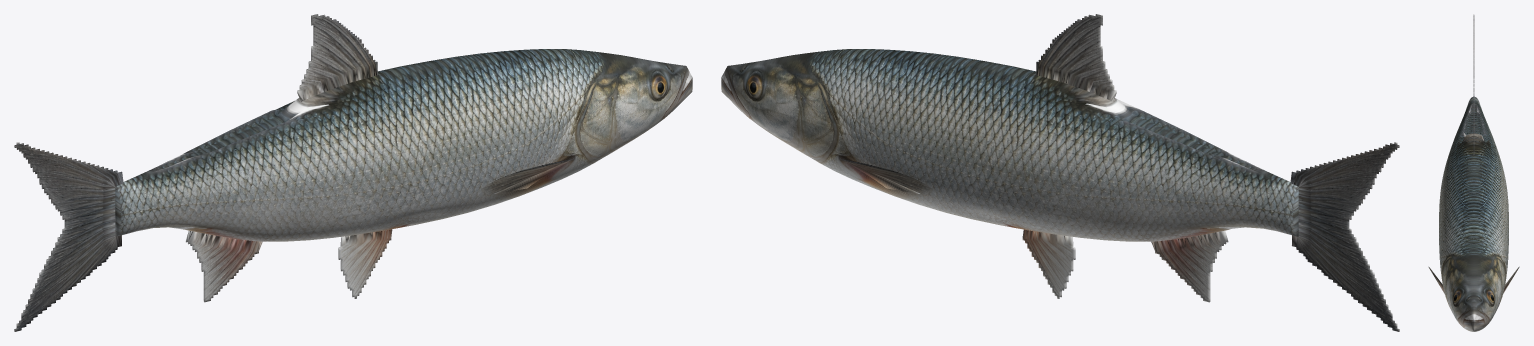
File: asp.glb
3 views of the same model, side by side, from view 1: azimuth 30°, elevation 25°; view 2: azimuth 150°, elevation 25°; view 3: azimuth 270°, elevation 25° (orthographic). The views are drawn at different scales.
Parts seen in each view (by area): view 1: asp_realistic; view 2: asp_realistic; view 3: asp_realistic.
Part boxes in pixels (x1,y1,x2,y2): asp_realistic: (14,14,692,331); asp_realistic: (721,14,1399,331); asp_realistic: (1428,14,1519,331).
Size of the model in its own units: 1 by 0.4141 by 0.1642.
3 materials, 3 textured.
